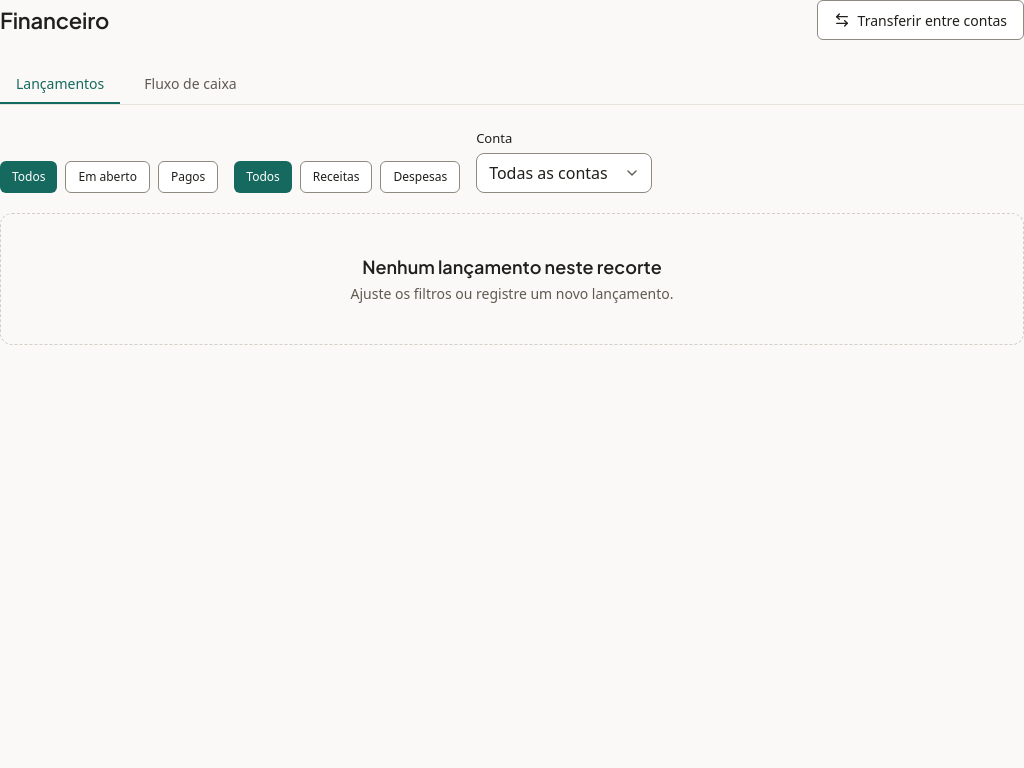
Test: Transferir entre contas — falta conta (o-sistema-avisa-o-que-falta) › deve dizer que falta uma conta, citar o Caixa e levar ao cadastro, sem os campos
Click the button "Transferir entre contas".
click(920, 20)  # box [817, 0, 1023, 40]
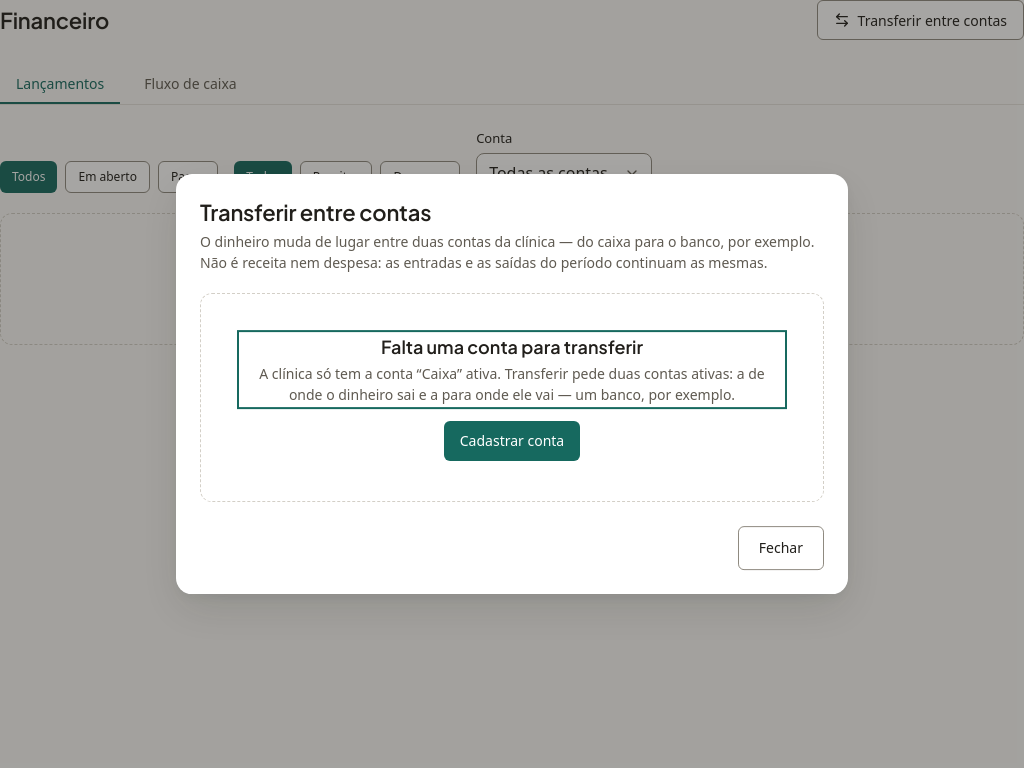
Check: the heading "Falta uma conta para transferir" is shown, box [381, 335, 643, 358]
Check: the text "só tem a conta “Caixa” ativa" is shown, box [259, 364, 765, 404]
Check: the button "Fechar" is shown, box [738, 526, 824, 570]
